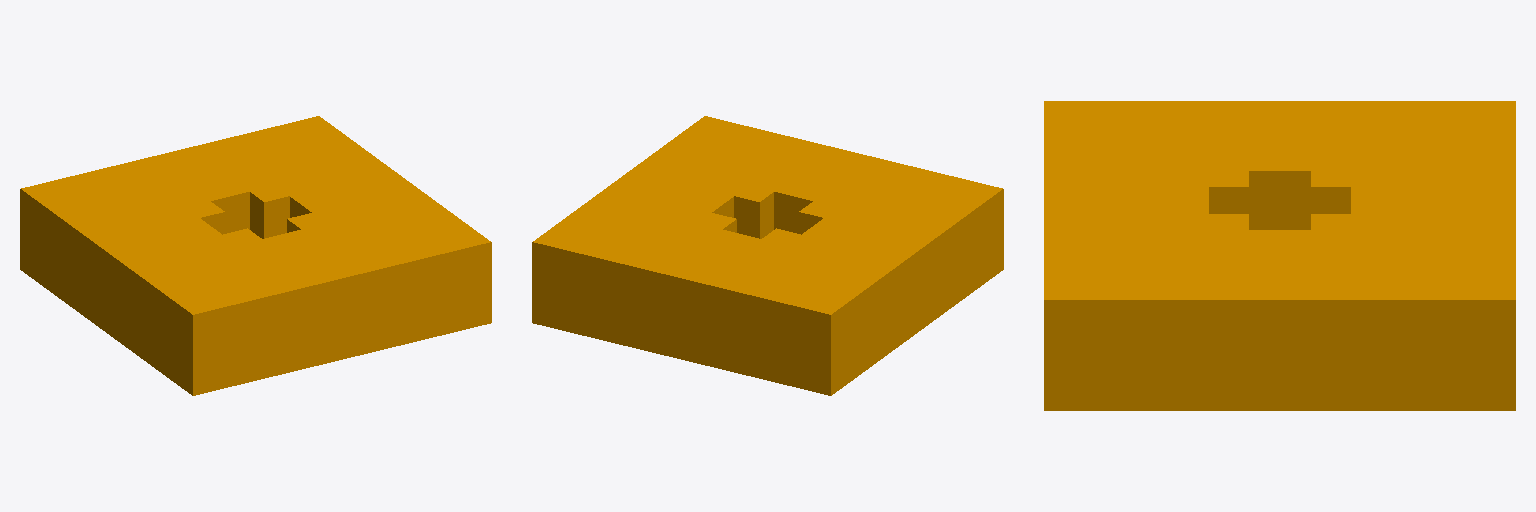
URDF robot description (socket_cross):
<?xml version='1.0' encoding='utf-8'?>
<robot name="socket_cross">
  <link name="body">
    <inertial>
      <origin xyz="1.6263032587282567e-18 3.614007241618348e-18 0.025702369120293632" />
      <mass value="0.6" />
      <inertia ixx="0.0022296989108529773" iyy="0.0022296989108529773" izz="0.004185770656821909" ixy="-8.639736061993863e-20" ixz="-3.003474671217039e-21" iyz="4.079377505927444e-20" />
    </inertial>
    <collision>
      <geometry>
        <mesh filename="part_00.obj" />
      </geometry>
    </collision>
    <collision>
      <geometry>
        <mesh filename="part_01.obj" />
      </geometry>
    </collision>
    <collision>
      <geometry>
        <mesh filename="part_02.obj" />
      </geometry>
    </collision>
    <collision>
      <geometry>
        <mesh filename="part_03.obj" />
      </geometry>
    </collision>
    <collision>
      <geometry>
        <mesh filename="part_04.obj" />
      </geometry>
    </collision>
    <collision>
      <geometry>
        <mesh filename="part_05.obj" />
      </geometry>
    </collision>
    <collision>
      <geometry>
        <mesh filename="part_06.obj" />
      </geometry>
    </collision>
    <collision>
      <geometry>
        <mesh filename="part_07.obj" />
      </geometry>
    </collision>
    <collision>
      <geometry>
        <mesh filename="part_08.obj" />
      </geometry>
    </collision>
    <visual>
      <geometry>
        <mesh filename="visual.obj" />
      </geometry>
    </visual>
  </link>
</robot>

--- Facts derived from the render (not from the file) ---
3 views of the same robot in one strip: view 1: azimuth 30°, elevation 25°; view 2: azimuth 150°, elevation 25°; view 3: azimuth 270°, elevation 25° (orthographic).
Model socket_cross with 1 links and 0 joints (none), rooted at body, posed all joints at 0.
Visible links, largest first — view 1: body; view 2: body; view 3: body.
Boxes of the visible links, left/top/right/bottom form: body: left=20, top=116, right=491, bottom=395; body: left=532, top=116, right=1003, bottom=395; body: left=1044, top=101, right=1515, bottom=410.
Size in the robot's own frame: 0.2 by 0.2 by 0.052 metres.
1 mesh visuals loaded from 1 distinct referenced files (1 OBJ).
